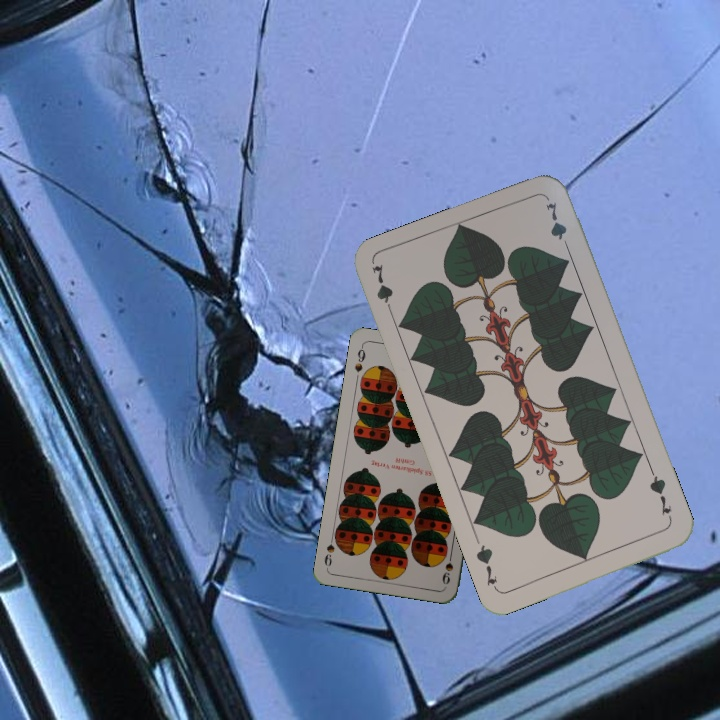G7: (367, 260, 397, 320), (645, 467, 675, 518)
S9: (438, 547, 456, 586), (350, 342, 368, 375)
